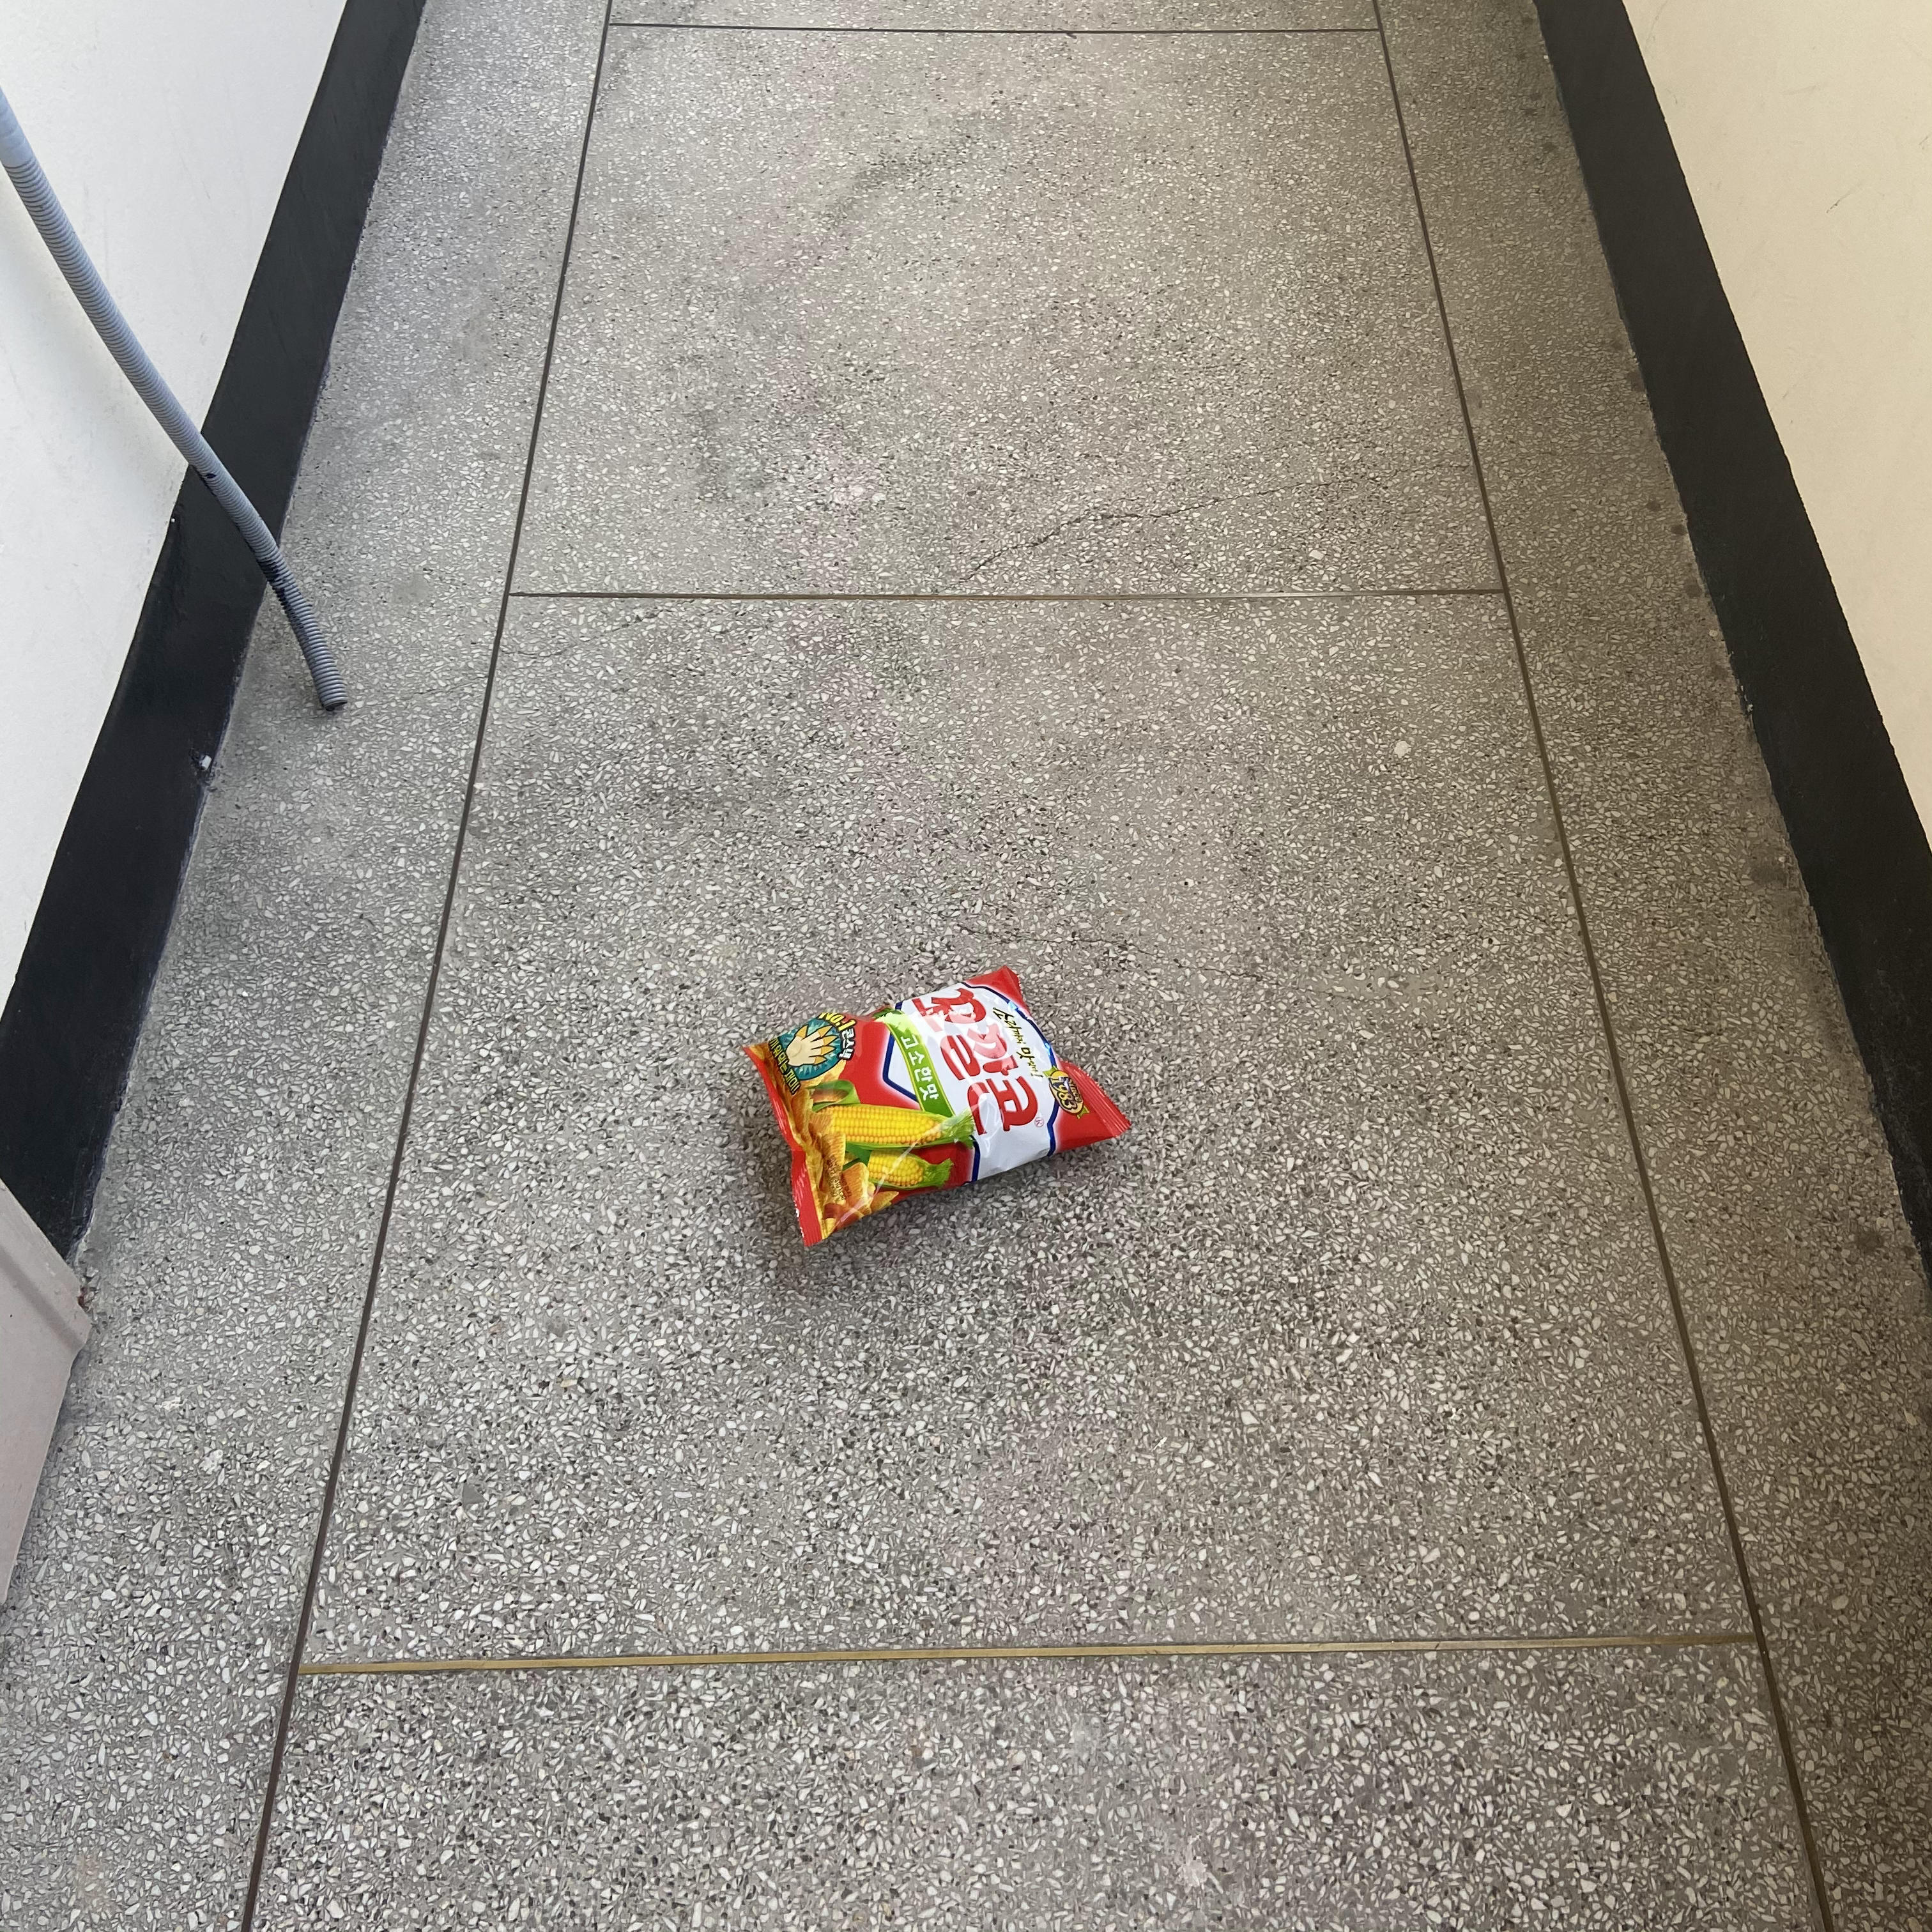ggoggalcon: (734, 962, 1134, 1249)
